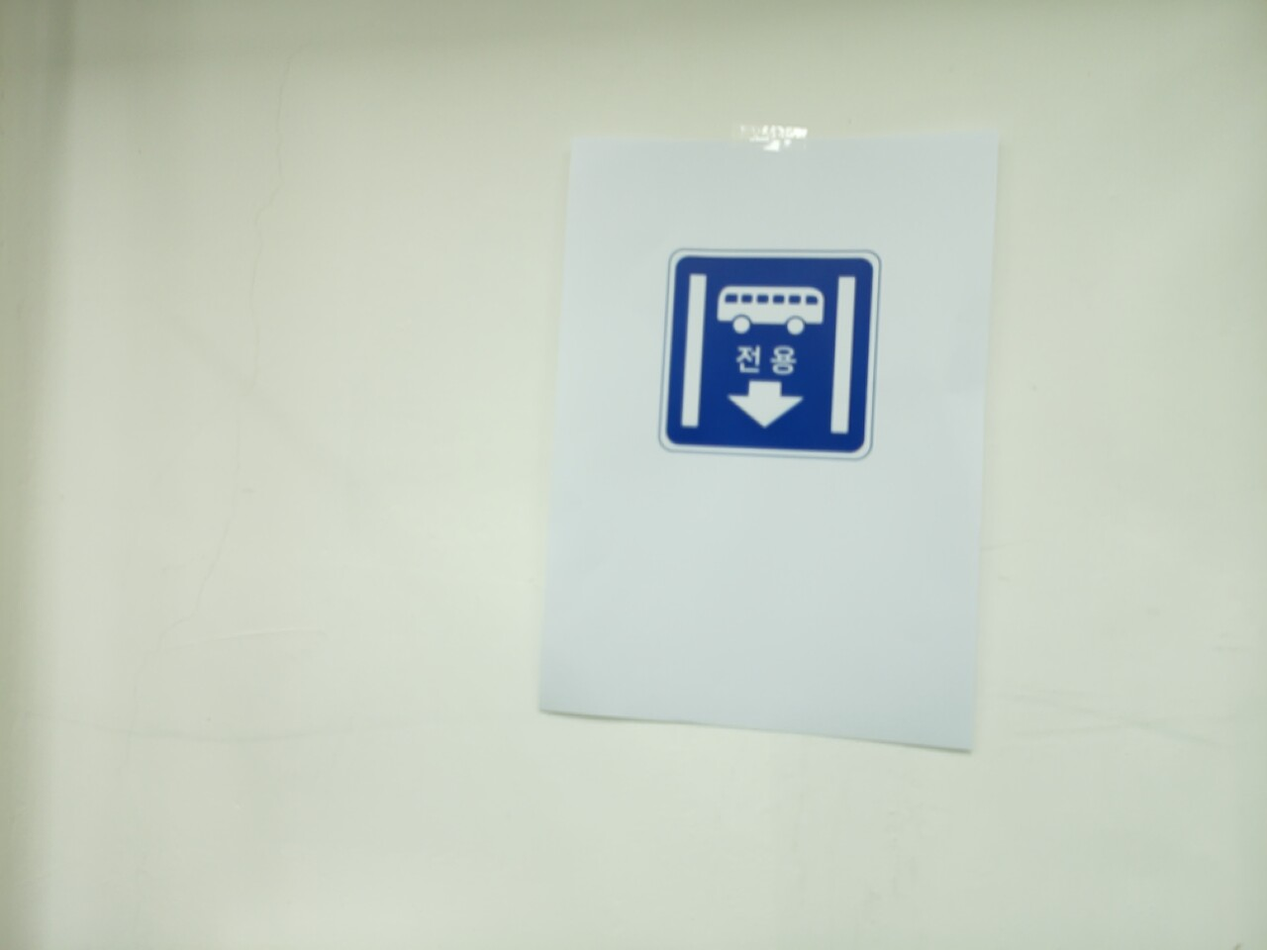bus_only_lane: (658, 247, 881, 461)
